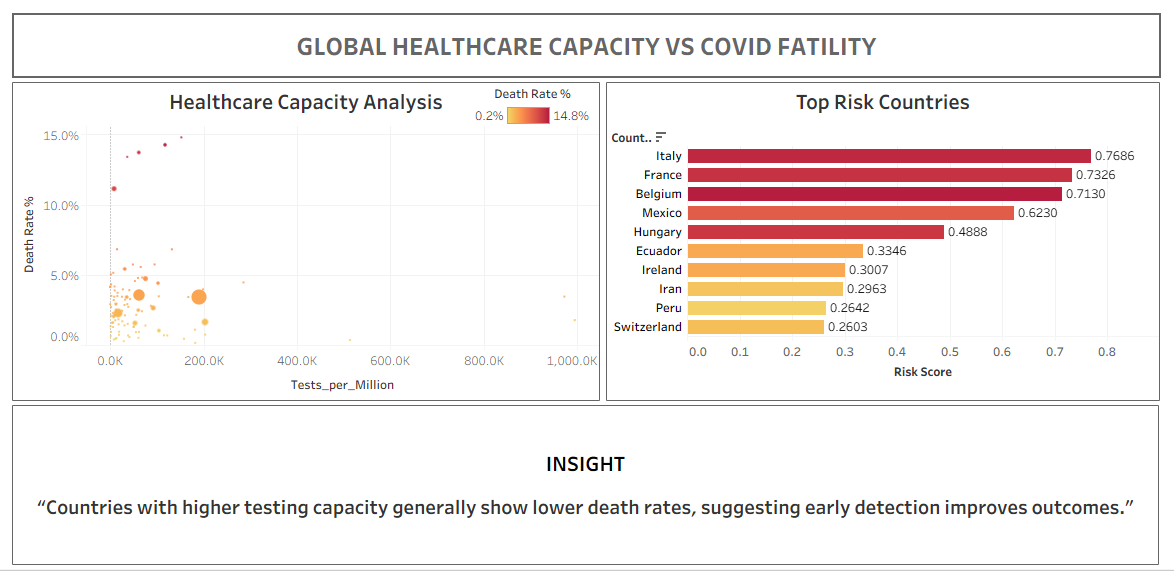

What the dashboard file says about the page in this screenshot:
{"tool":"tableau","page":{"name":"Healthcare Capacity Dashboard'","canvas":[1000,1000],"units":"permille","ordinal":2},"visuals":[{"type":"text","box":[19.2,48,961.5,111.3]},{"type":"worksheet","title":"Healthcare Capacity Analysis","mark":"Circle","rows":["Calculation_0934347613036548"],"cols":["Calculation_0934347612790787"],"box":[19.2,166.1,492.1,546.2]},{"type":"worksheet","title":"Top Risk Countries","mark":"Automatic","rows":["Country_Region"],"cols":["Calculation_0934347637542918"],"box":[516.3,166.1,463.6,546.2]},{"type":"legend","title":"Healthcare Capacity Analysis","param":"[federated.172ccab1n8zplu19ebs9x06qiq8m].[usr:Calculation_0934347613036548:qk]","box":[403,171.2,102.8,71.9]},{"type":"text","box":[19.2,719.2,959.8,274]}]}

Visuals, with their boxes on the dashboard's canvas, which has no fixed pixel size, in thousandths of its width and height (x1, y1, x2, y2). These are canvas units, not pixel positions in the 1174x571 screenshot, which may show the page scaled, cropped or inside an application window:
text: 19 48 981 159
"Healthcare Capacity Analysis" worksheet (Circle marks): 19 166 511 712
"Top Risk Countries" worksheet: 516 166 980 712
"Healthcare Capacity Analysis" legend: 403 171 506 243
text: 19 719 979 993
